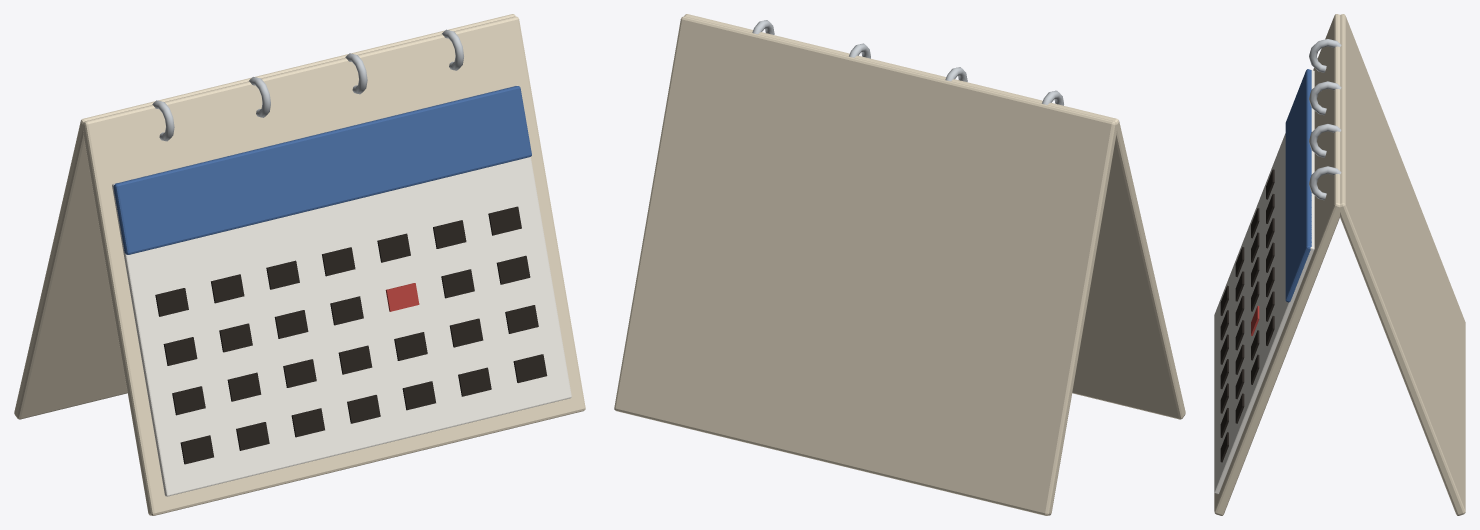
File: hh_cat_desk_calendar.glb
The picture shows the model from 3 angles, left to right: view 1: azimuth 30°, elevation 25°; view 2: azimuth 150°, elevation 25°; view 3: azimuth 270°, elevation 25°; orthographic projection. The views are drawn at different scales.
Visible parts, largest first — view 1: page, calendar_board, calendar_header, calendar_board.001, date_cell.008, date_cell.010, date_cell.014, date_cell.026, date_cell.002, date_cell.020, date_cell.024, date_cell.001 (+20 smaller); view 2: calendar_board.001, calendar_board; view 3: calendar_board.001, page, calendar_board, calendar_header, ring.001, ring.003, ring.002, ring.
Boxes of the visible parts, x1=… form: page: x1=112, y1=85, x2=571, y2=496; calendar_board: x1=82, y1=16, x2=585, y2=515; calendar_header: x1=113, y1=86, x2=531, y2=254; calendar_board.001: x1=14, y1=14, x2=515, y2=419; date_cell.008: x1=219, y1=323, x2=252, y2=352; date_cell.010: x1=330, y1=296, x2=363, y2=325; date_cell.014: x1=172, y1=386, x2=205, y2=415; date_cell.026: x1=458, y1=367, x2=491, y2=396; date_cell.002: x1=266, y1=260, x2=299, y2=289; date_cell.020: x1=505, y1=305, x2=538, y2=333; date_cell.024: x1=347, y1=395, x2=380, y2=423; date_cell.001: x1=211, y1=274, x2=244, y2=303; calendar_board.001: x1=614, y1=16, x2=1117, y2=515; calendar_board: x1=684, y1=14, x2=1185, y2=419; calendar_board.001: x1=1339, y1=14, x2=1465, y2=515; page: x1=1214, y1=69, x2=1314, y2=494; calendar_board: x1=1214, y1=14, x2=1341, y2=515; calendar_header: x1=1285, y1=69, x2=1311, y2=302; ring.001: x1=1309, y1=81, x2=1341, y2=115; ring.003: x1=1309, y1=166, x2=1341, y2=200; ring.002: x1=1309, y1=124, x2=1341, y2=157; ring: x1=1309, y1=39, x2=1341, y2=72.
Size of the model in its own units: 0.18 by 0.14 by 0.1.
